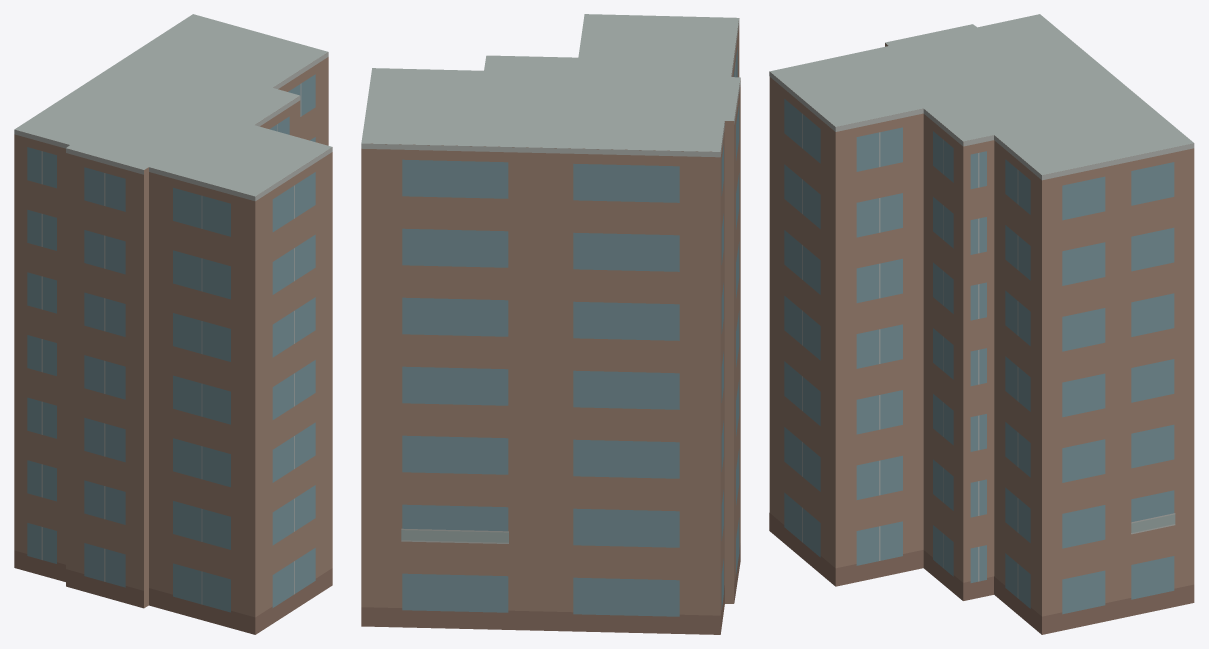
File: survey-upis-32741967.glb
The picture shows the model from 3 angles, left to right: view 1: azimuth 30°, elevation 25°; view 2: azimuth 150°, elevation 25°; view 3: azimuth 270°, elevation 25°; orthographic projection. The views are drawn at different scales.
Visible parts, largest first — view 1: survey-upis-32741967.tmp; view 2: survey-upis-32741967.tmp; view 3: survey-upis-32741967.tmp.
Part boxes in pixels (bbox=[...]): survey-upis-32741967.tmp: bbox=[14, 14, 332, 634]; survey-upis-32741967.tmp: bbox=[361, 14, 740, 634]; survey-upis-32741967.tmp: bbox=[769, 14, 1194, 634].
Size of the model in its own units: 16.8 by 22.3 by 18.69.
